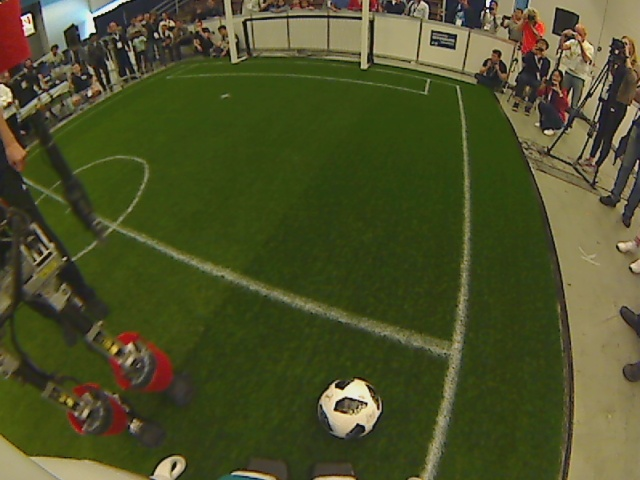ball: (314, 375, 384, 442)
